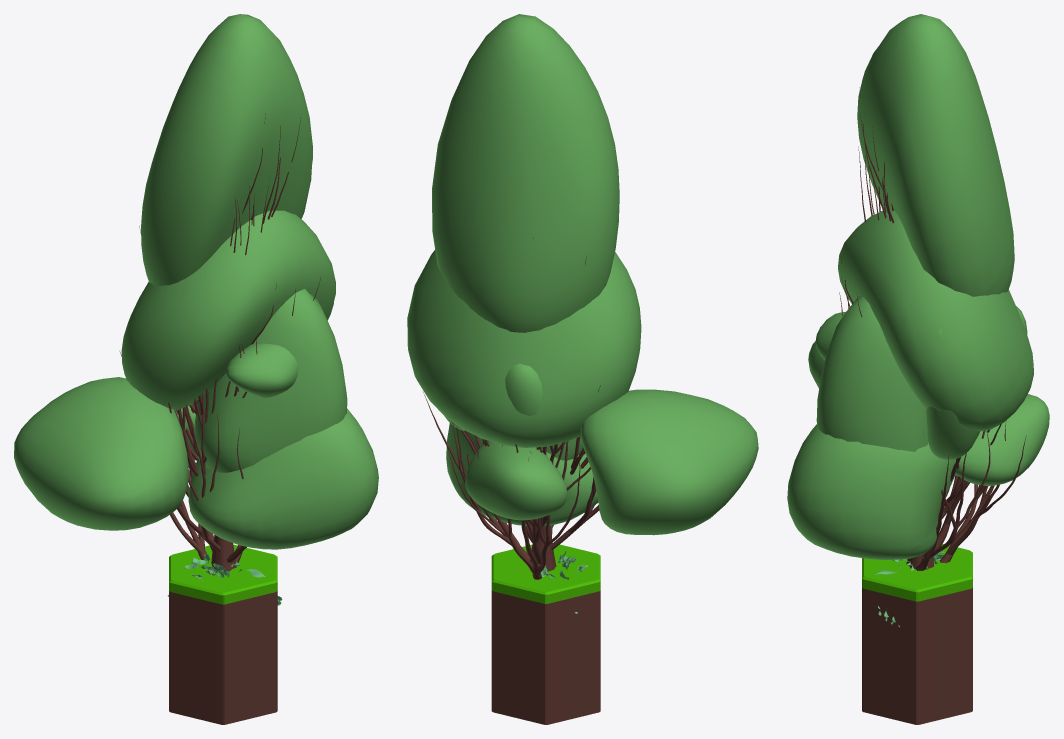
Rendered from BlockOutMeshs.fbx.
The picture shows the model from 3 angles, left to right: view 1: azimuth 30°, elevation 25°; view 2: azimuth 150°, elevation 25°; view 3: azimuth 270°, elevation 25°; orthographic projection. The views are drawn at different scales.
Parts seen in each view (by area): view 1: tEMPtREE2, tEMPtREE, HexTile; view 2: tEMPtREE2, tEMPtREE, HexTile; view 3: tEMPtREE2, tEMPtREE, HexTile.
Part boxes in pixels (box(x1,y1,x2,y2)): tEMPtREE2: box(14, 210, 378, 571); tEMPtREE: box(139, 14, 347, 569); HexTile: box(169, 544, 277, 724); tEMPtREE2: box(407, 250, 758, 579); tEMPtREE: box(432, 14, 619, 571); HexTile: box(491, 542, 600, 724); tEMPtREE2: box(787, 208, 1049, 570); tEMPtREE: box(816, 14, 1027, 570); HexTile: box(862, 544, 972, 724).
Bounding box in the file's own units: 557 × 1191 × 409.
